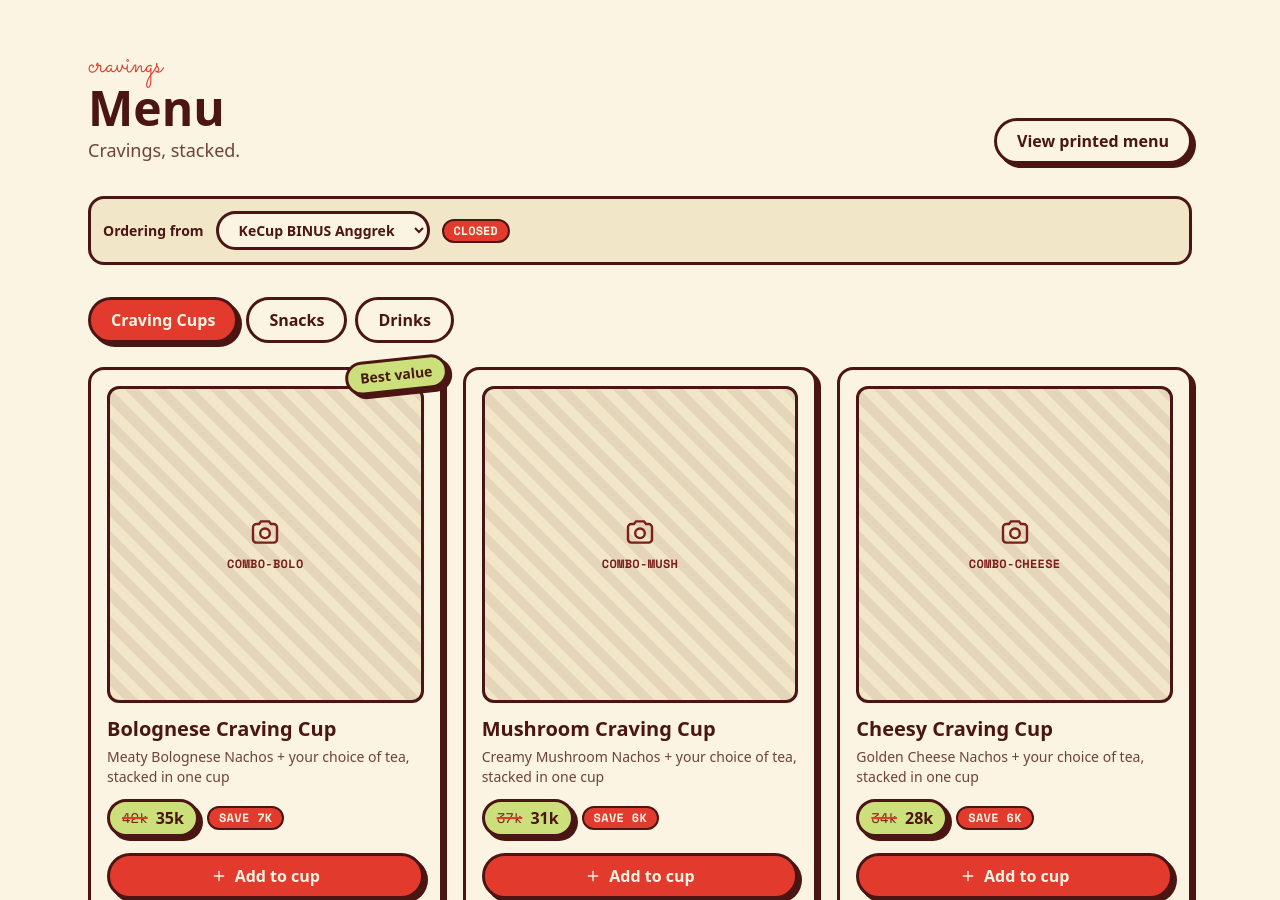
Test: Menu page › switches tabs to snacks and drinks
Click the tab "Snacks" at (297, 320), box [246,297,348,343]
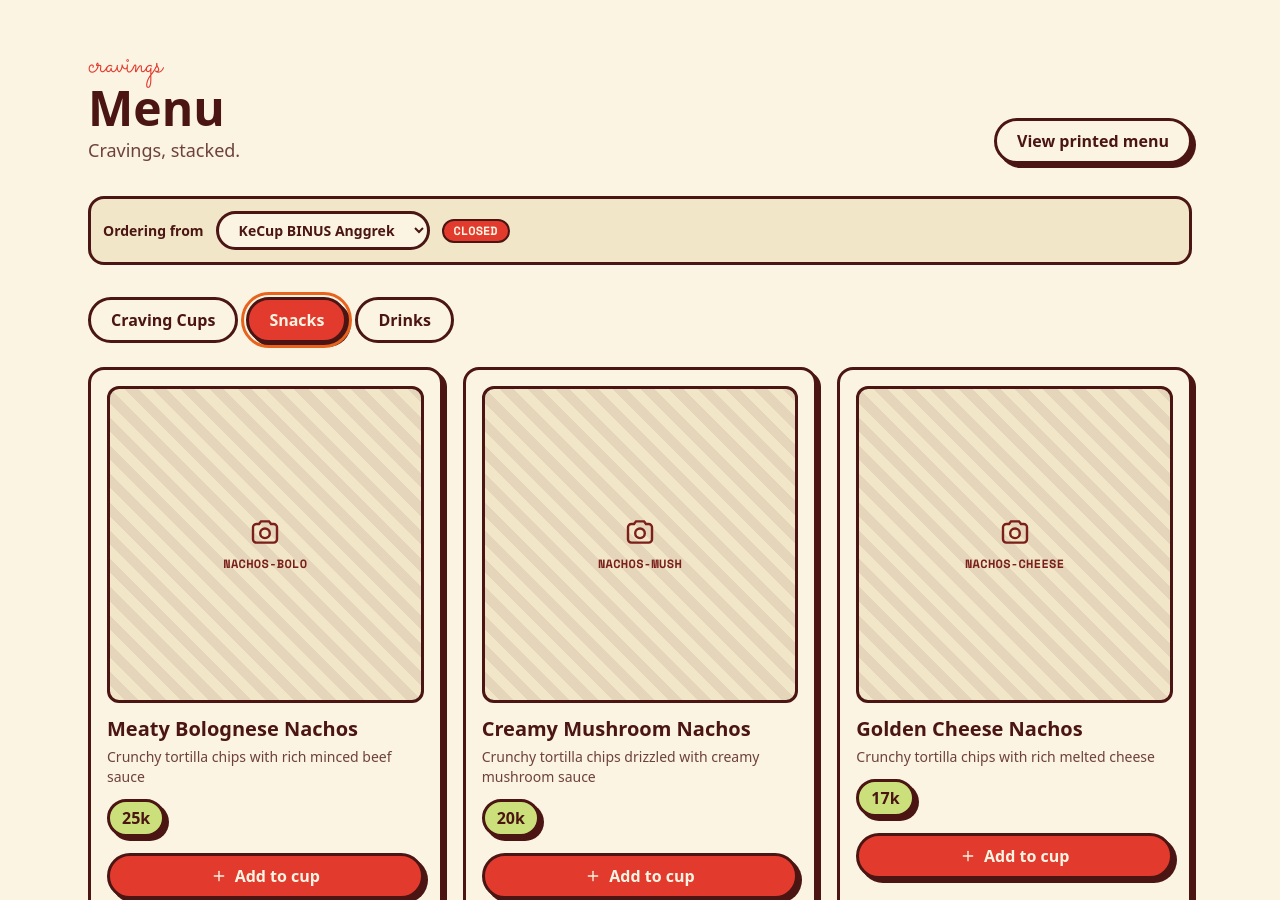
Expected: the heading "Meaty Bolognese Nachos" is shown, [107,715,358,742]
Expected: the text "25k" is shown, [122,806,150,830]
Click the tab "Drinks" at (405, 320), box [356,297,454,343]
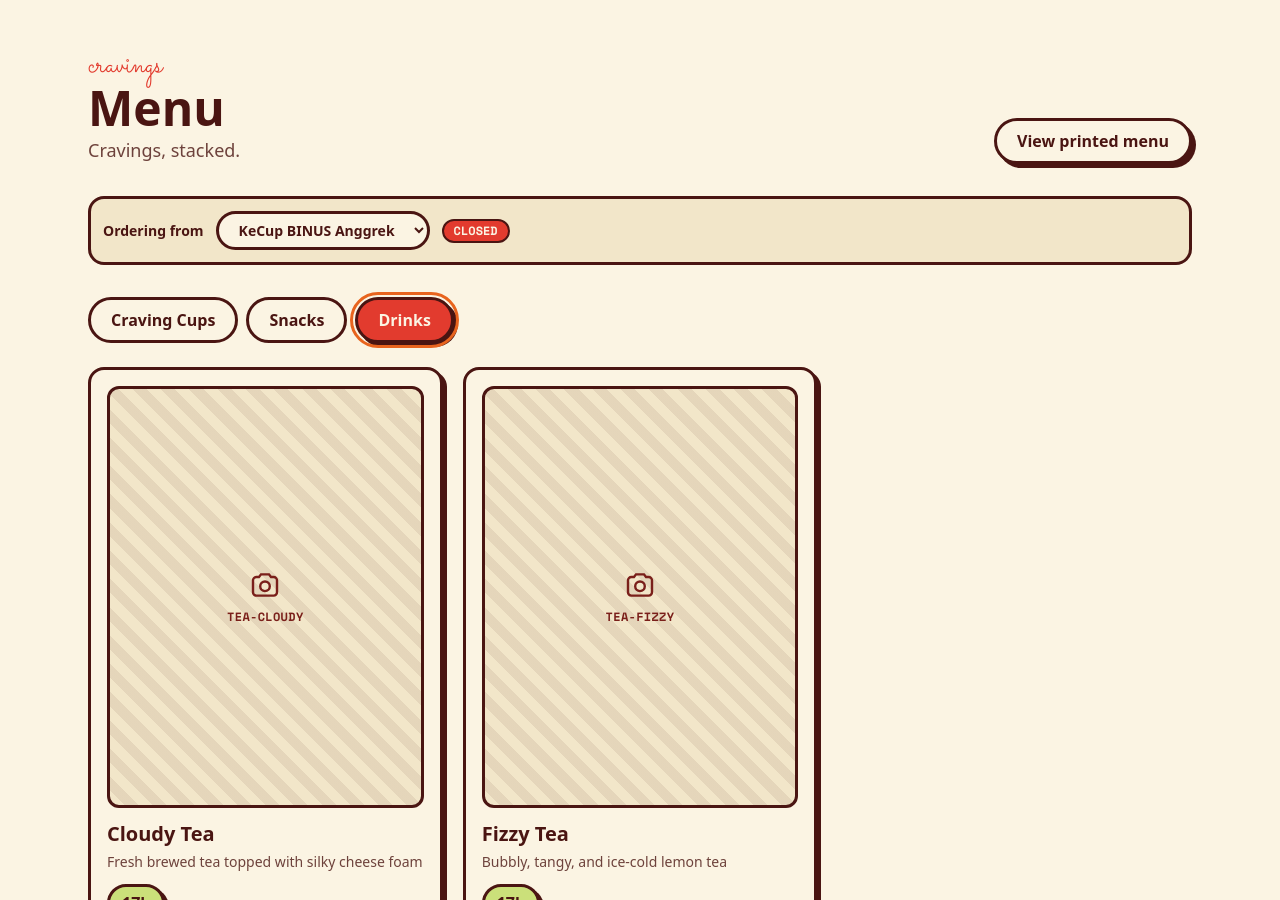
Expected: the heading "Cloudy Tea" is shown, [107,820,215,847]
Expected: the heading "Fizzy Tea" is shown, [482,820,569,847]
